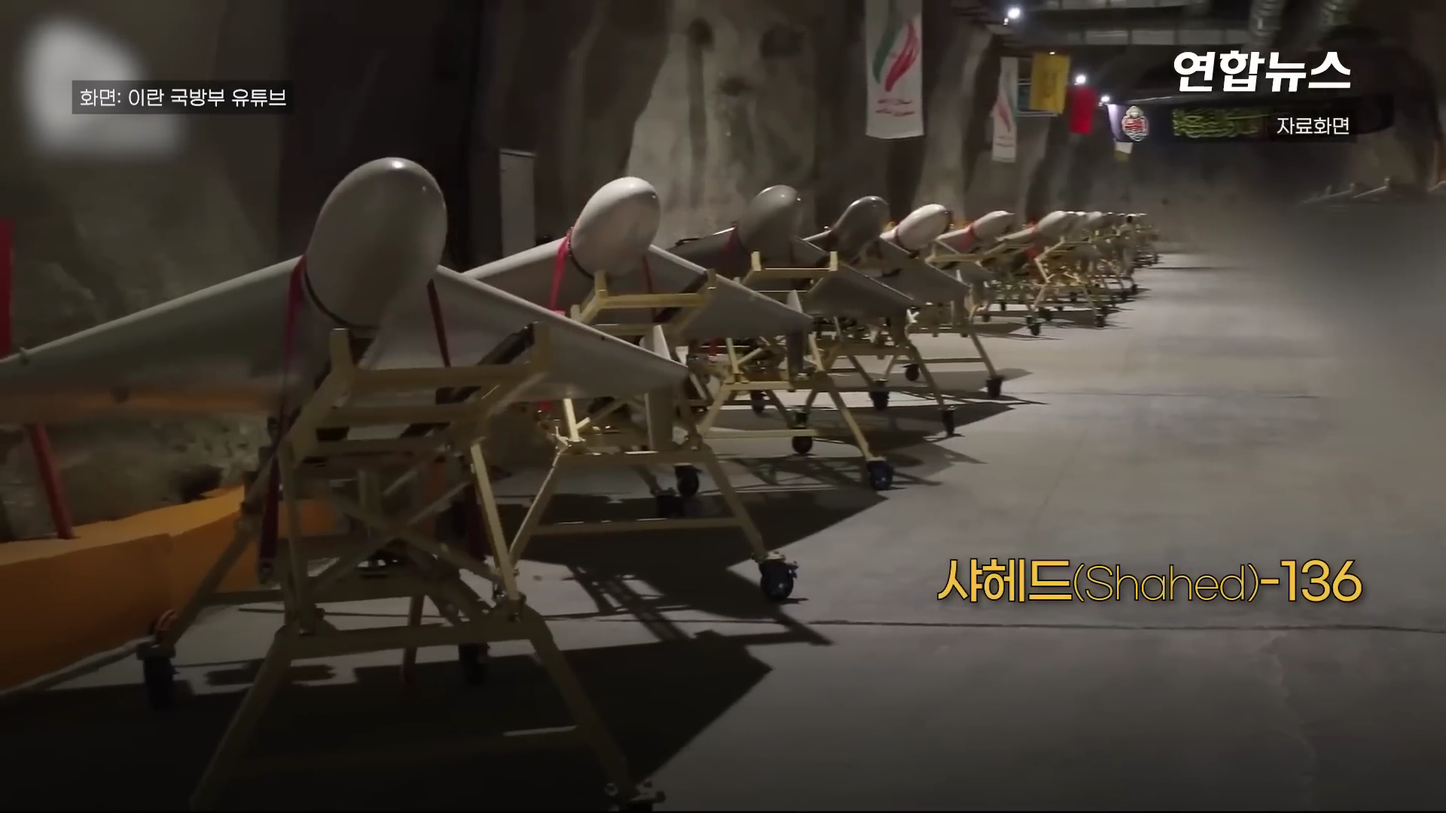shahed: (0, 148, 694, 391)
